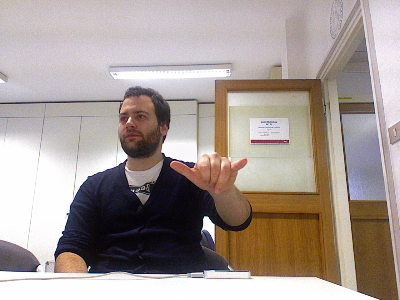六六六: (169, 150, 247, 195)
